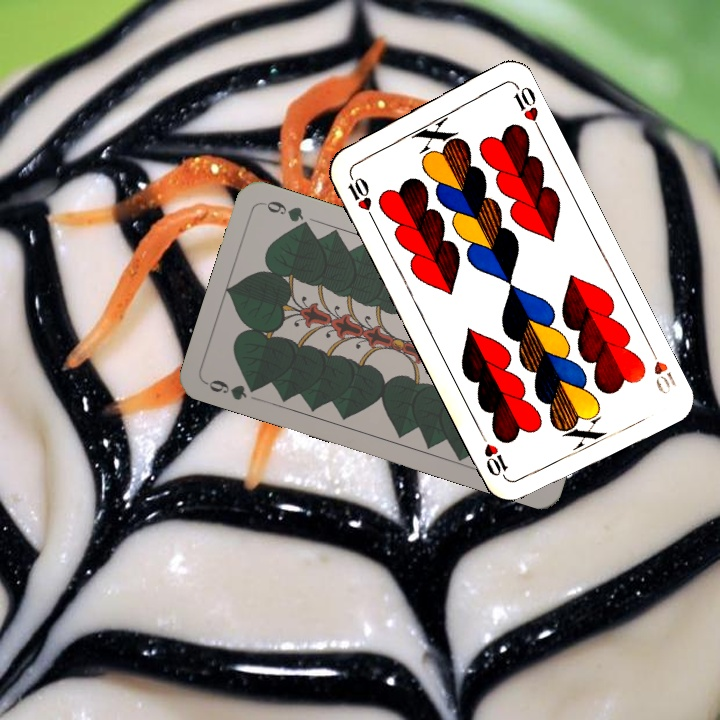G9: (202, 375, 263, 403)
H10: (644, 340, 678, 398), (343, 166, 377, 222)
